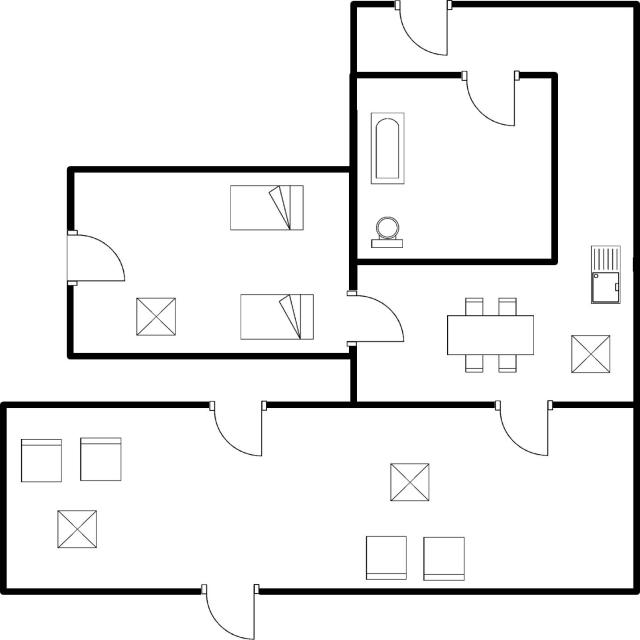bed: (235, 288, 320, 344), (225, 182, 308, 234)
coffee_table: (49, 504, 104, 554), (131, 291, 181, 340), (385, 459, 435, 507), (565, 329, 615, 376)
dining_table: (441, 293, 539, 378)
large_sink: (365, 212, 406, 253)
sink: (585, 241, 624, 308)
small_sofa: (360, 531, 412, 582), (16, 434, 66, 487), (75, 433, 125, 486), (418, 531, 467, 585)
tub: (366, 108, 408, 191)
